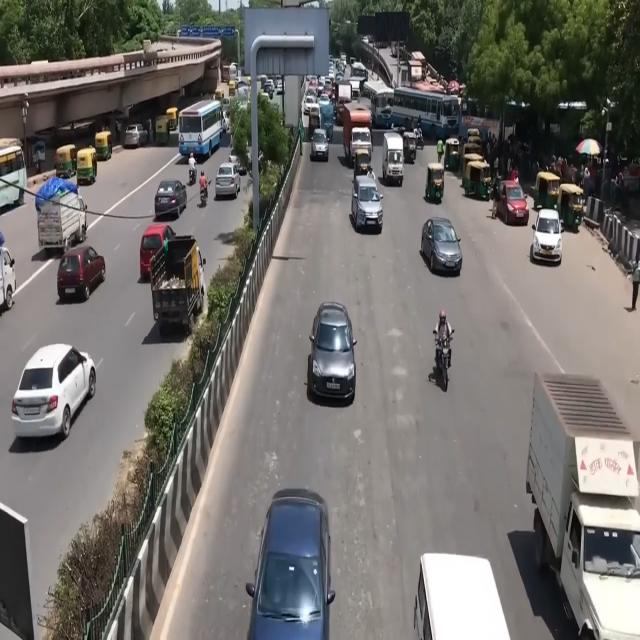auto: (557, 178, 586, 236), (536, 168, 561, 212), (467, 160, 491, 202), (52, 144, 76, 181), (77, 148, 98, 188), (93, 131, 113, 165), (463, 153, 482, 188), (352, 144, 370, 180), (427, 166, 444, 204), (446, 136, 462, 173), (154, 118, 170, 148), (166, 105, 178, 132)
bike-auto: (428, 306, 459, 408), (198, 168, 213, 210), (187, 152, 199, 188), (413, 122, 424, 152), (368, 165, 377, 184)
